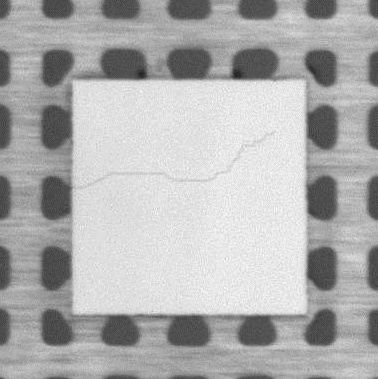DIE_CRACK: (72, 131, 278, 189)
